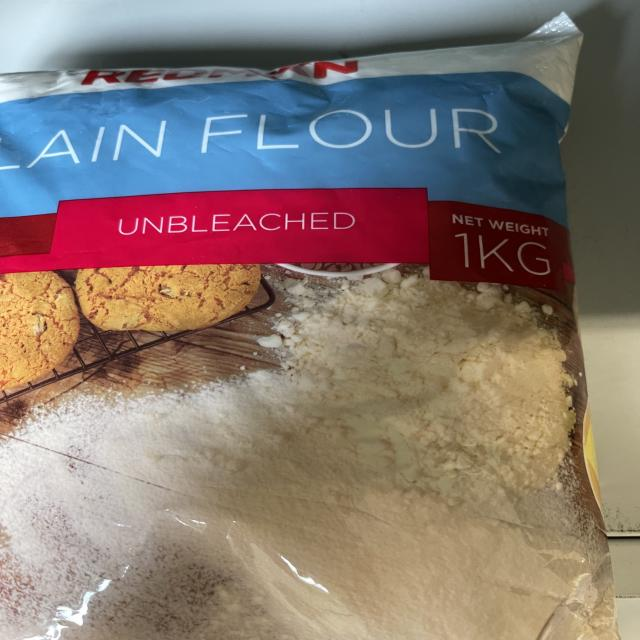object_name: (4, 66, 593, 640)
